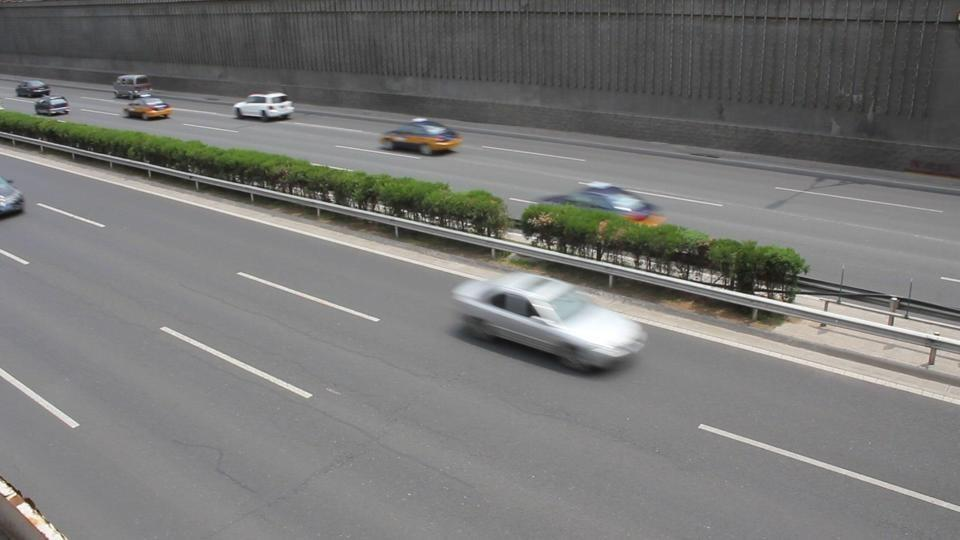car: (449, 270, 648, 373), (532, 181, 666, 225), (377, 118, 464, 155), (233, 92, 293, 121), (124, 95, 173, 120), (0, 176, 25, 218), (113, 73, 151, 100), (15, 78, 50, 99), (35, 96, 70, 116)
